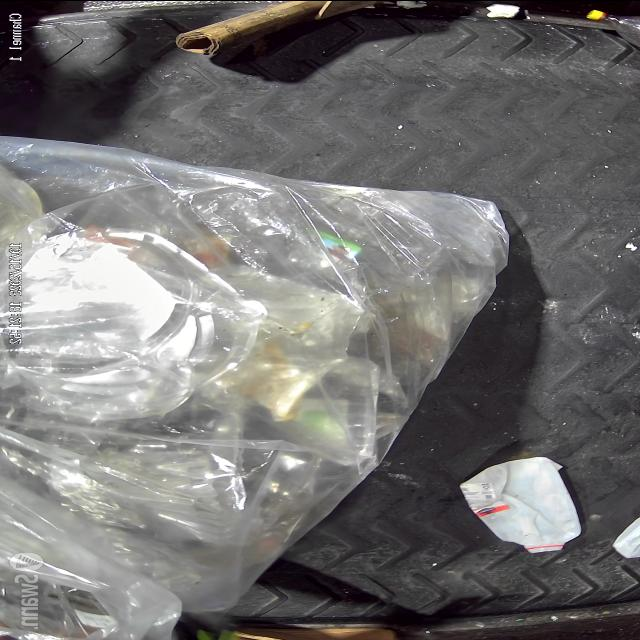milk_jug: (460, 455, 584, 552)
plastic_bottle: (586, 8, 640, 46)
